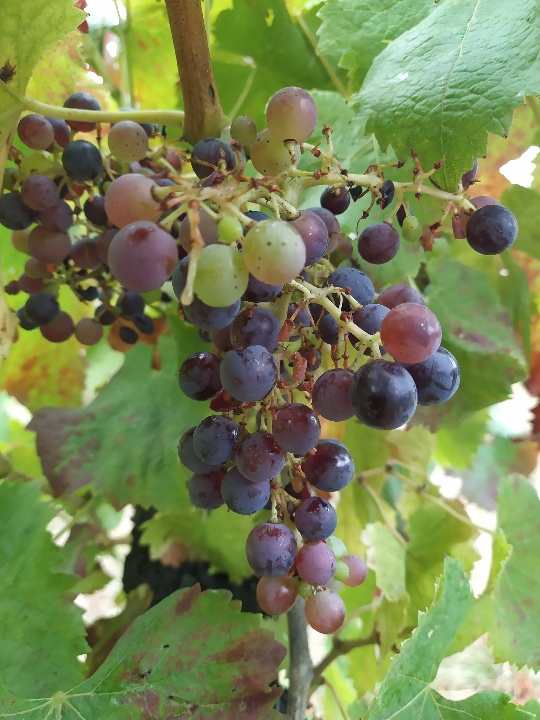grape: (0, 82, 520, 639)
